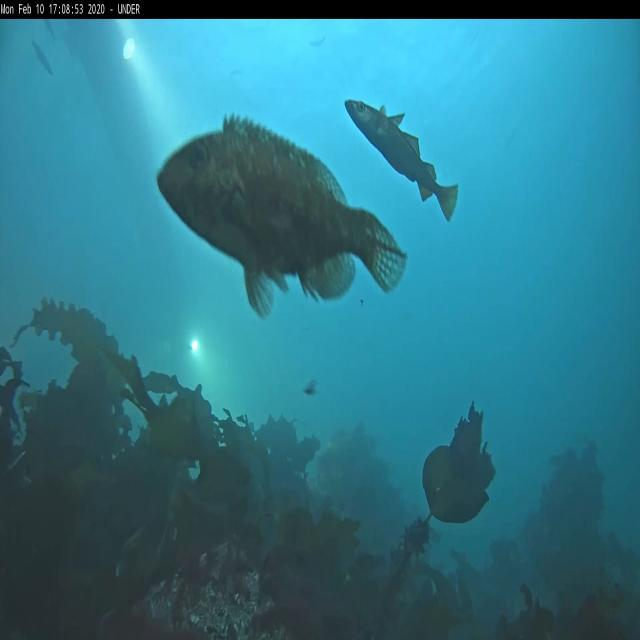fish: (156, 112, 409, 318), (344, 99, 459, 222), (32, 37, 54, 75)
